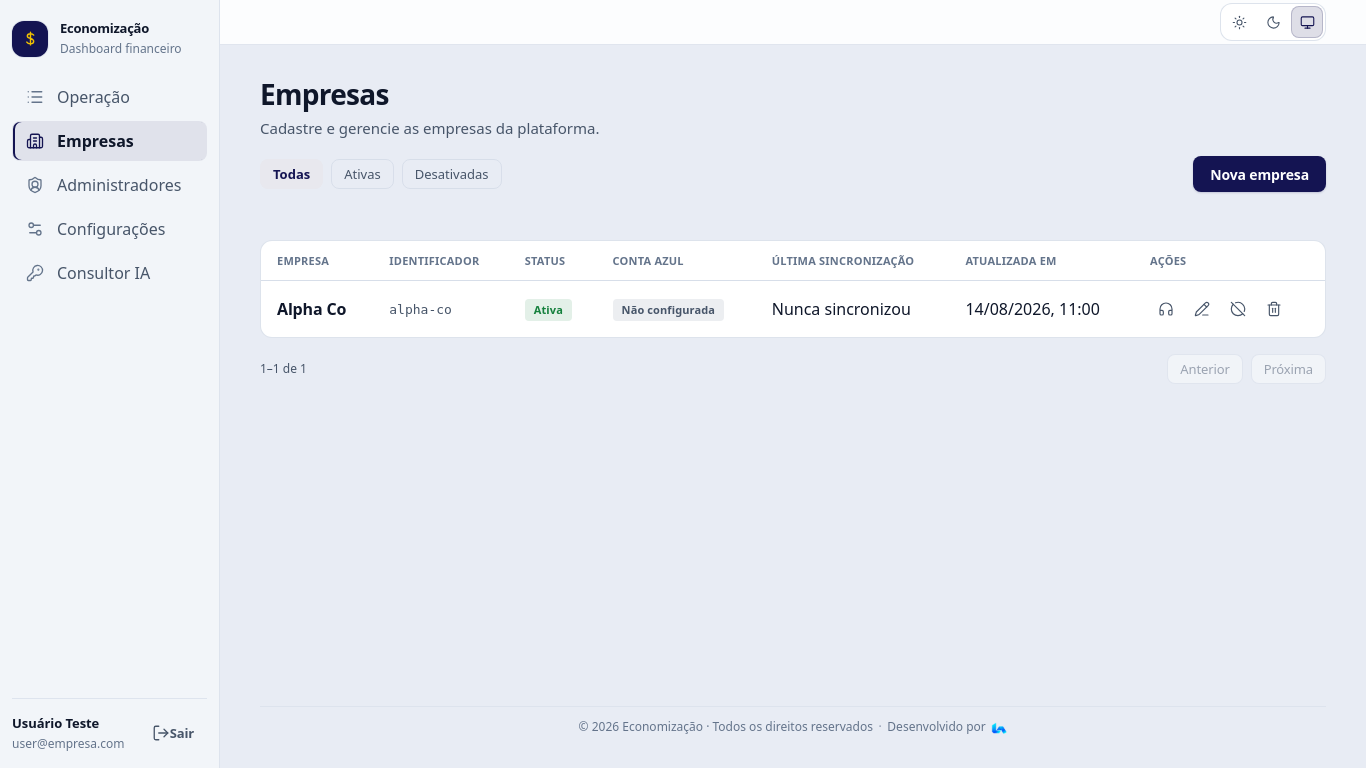
UI administrativa de Empresas (1.2D) › exclusão permanente › mostra mensagem sanitizada em conflito de dependência
This screenshot has width=1366, height=768.
Click the button named "Excluir permanentemente Alpha Co": (1274, 309) 1258,293 -> 1290,325
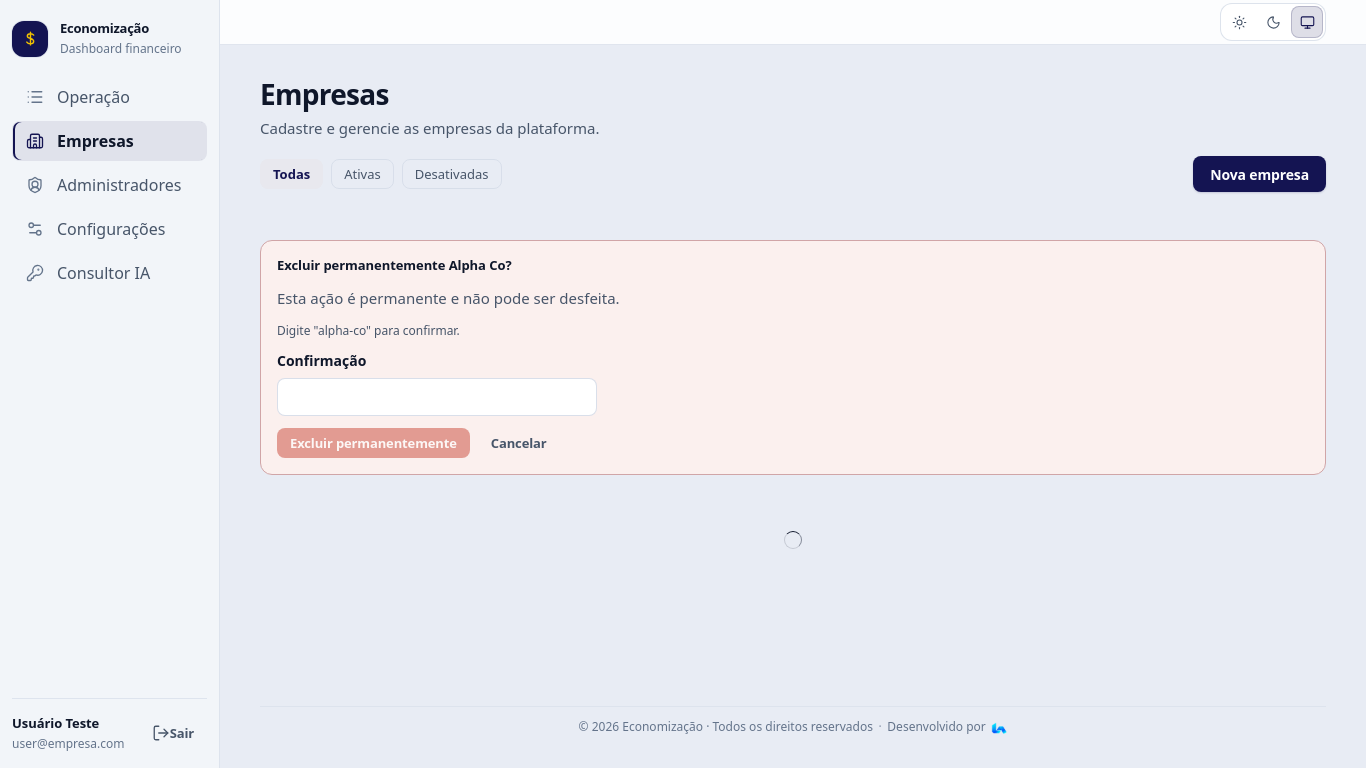
In the field labelled "Confirmação": (437, 397) 277,378 -> 597,416, type "alpha-co"
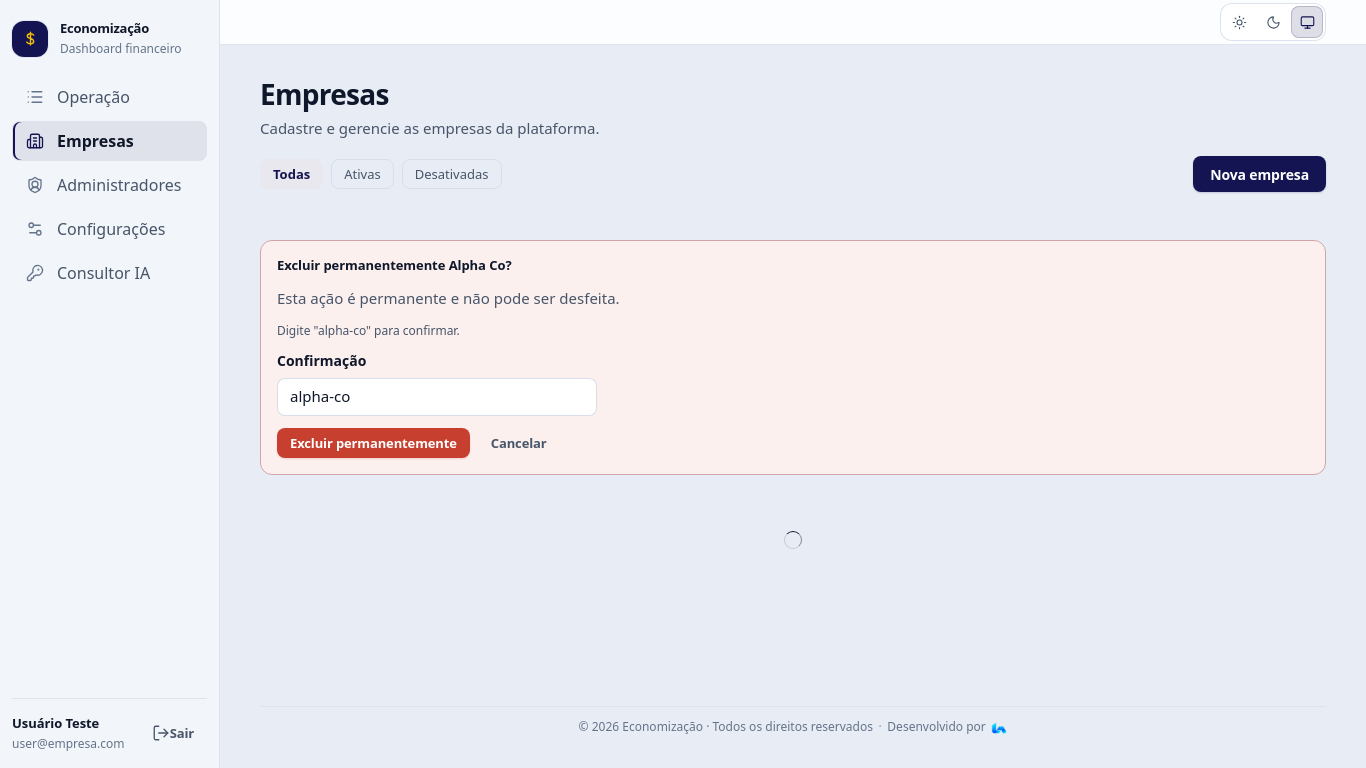
Click the button "Excluir permanentemente": (373, 443) 277,428 -> 470,458
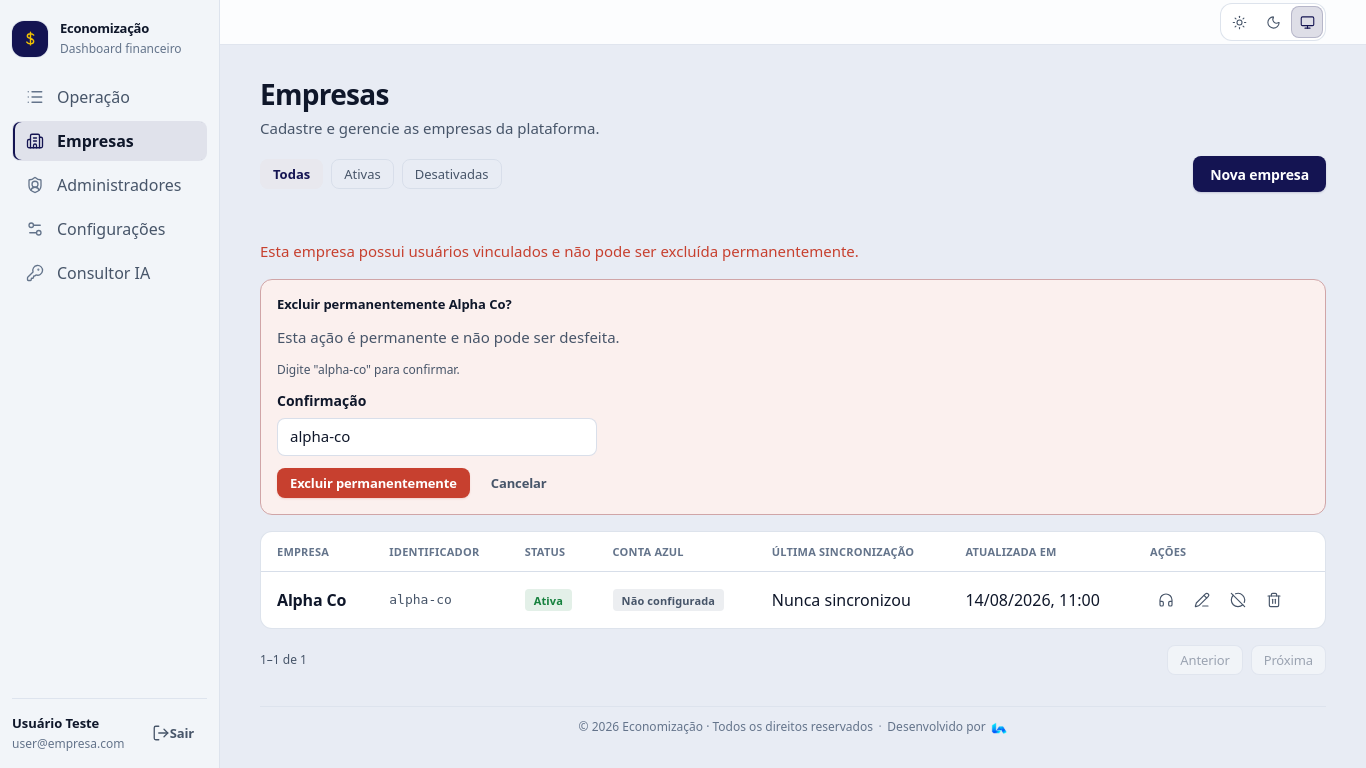
Check: the text "possui usuários vinculados e não pode ser excluída" is shown, box 260,241 -> 859,261
